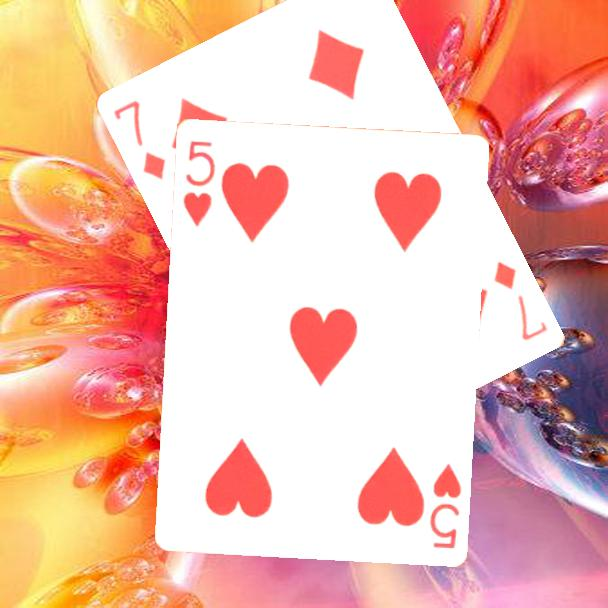d07: (490, 257, 551, 344), (110, 96, 169, 183)
h05: (179, 136, 218, 229), (426, 459, 464, 552)
